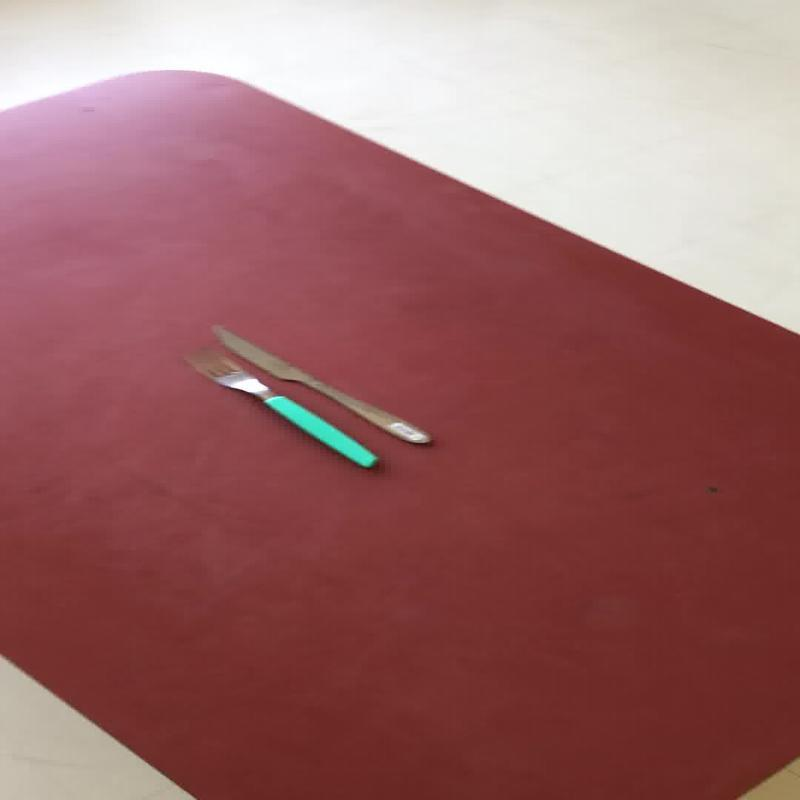fork: (182, 344, 378, 469)
knife: (208, 322, 432, 444), (182, 344, 378, 470)
